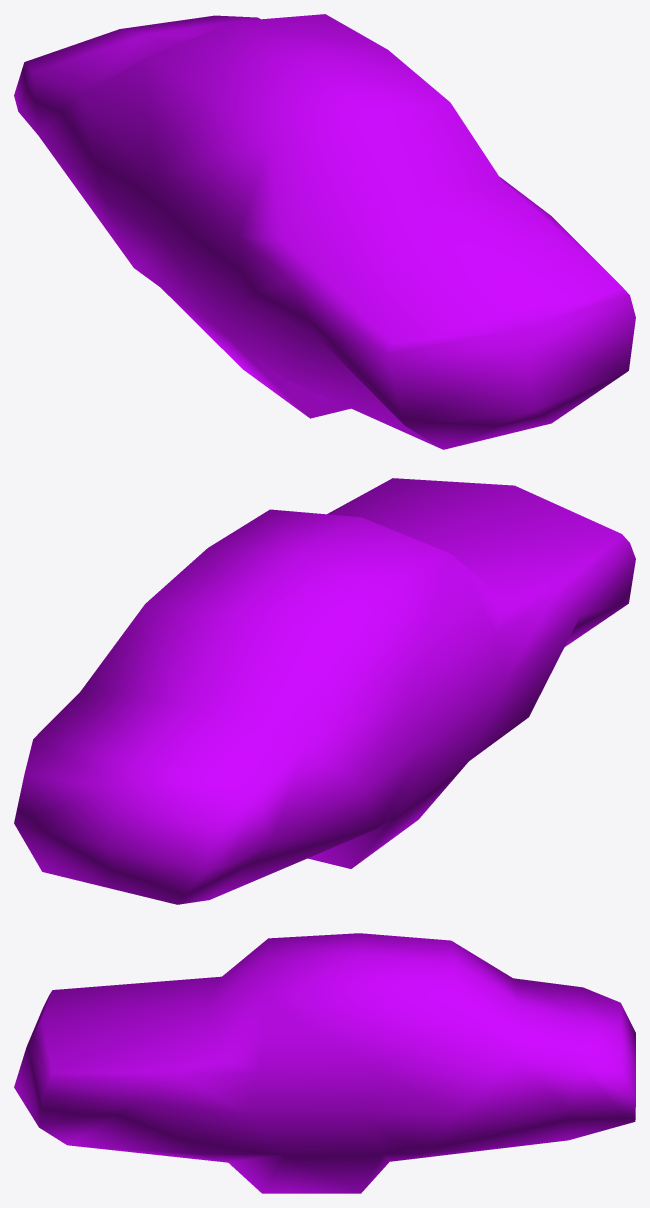
File: the_bandit_collider.FBX
The picture shows the model from 3 angles, top to bottom: view 1: azimuth 30°, elevation 25°; view 2: azimuth 150°, elevation 25°; view 3: azimuth 270°, elevation 25°; orthographic projection. The views are drawn at different scales.
Visible parts, largest first — view 1: bandit_collider; view 2: bandit_collider; view 3: bandit_collider.
Part boxes in pixels (x1,y1,x2,y2): bandit_collider: (14, 14, 635, 449); bandit_collider: (14, 478, 635, 904); bandit_collider: (14, 933, 635, 1193).
Bounding box in the file's own units: 1.77 × 1.92 × 4.92.
